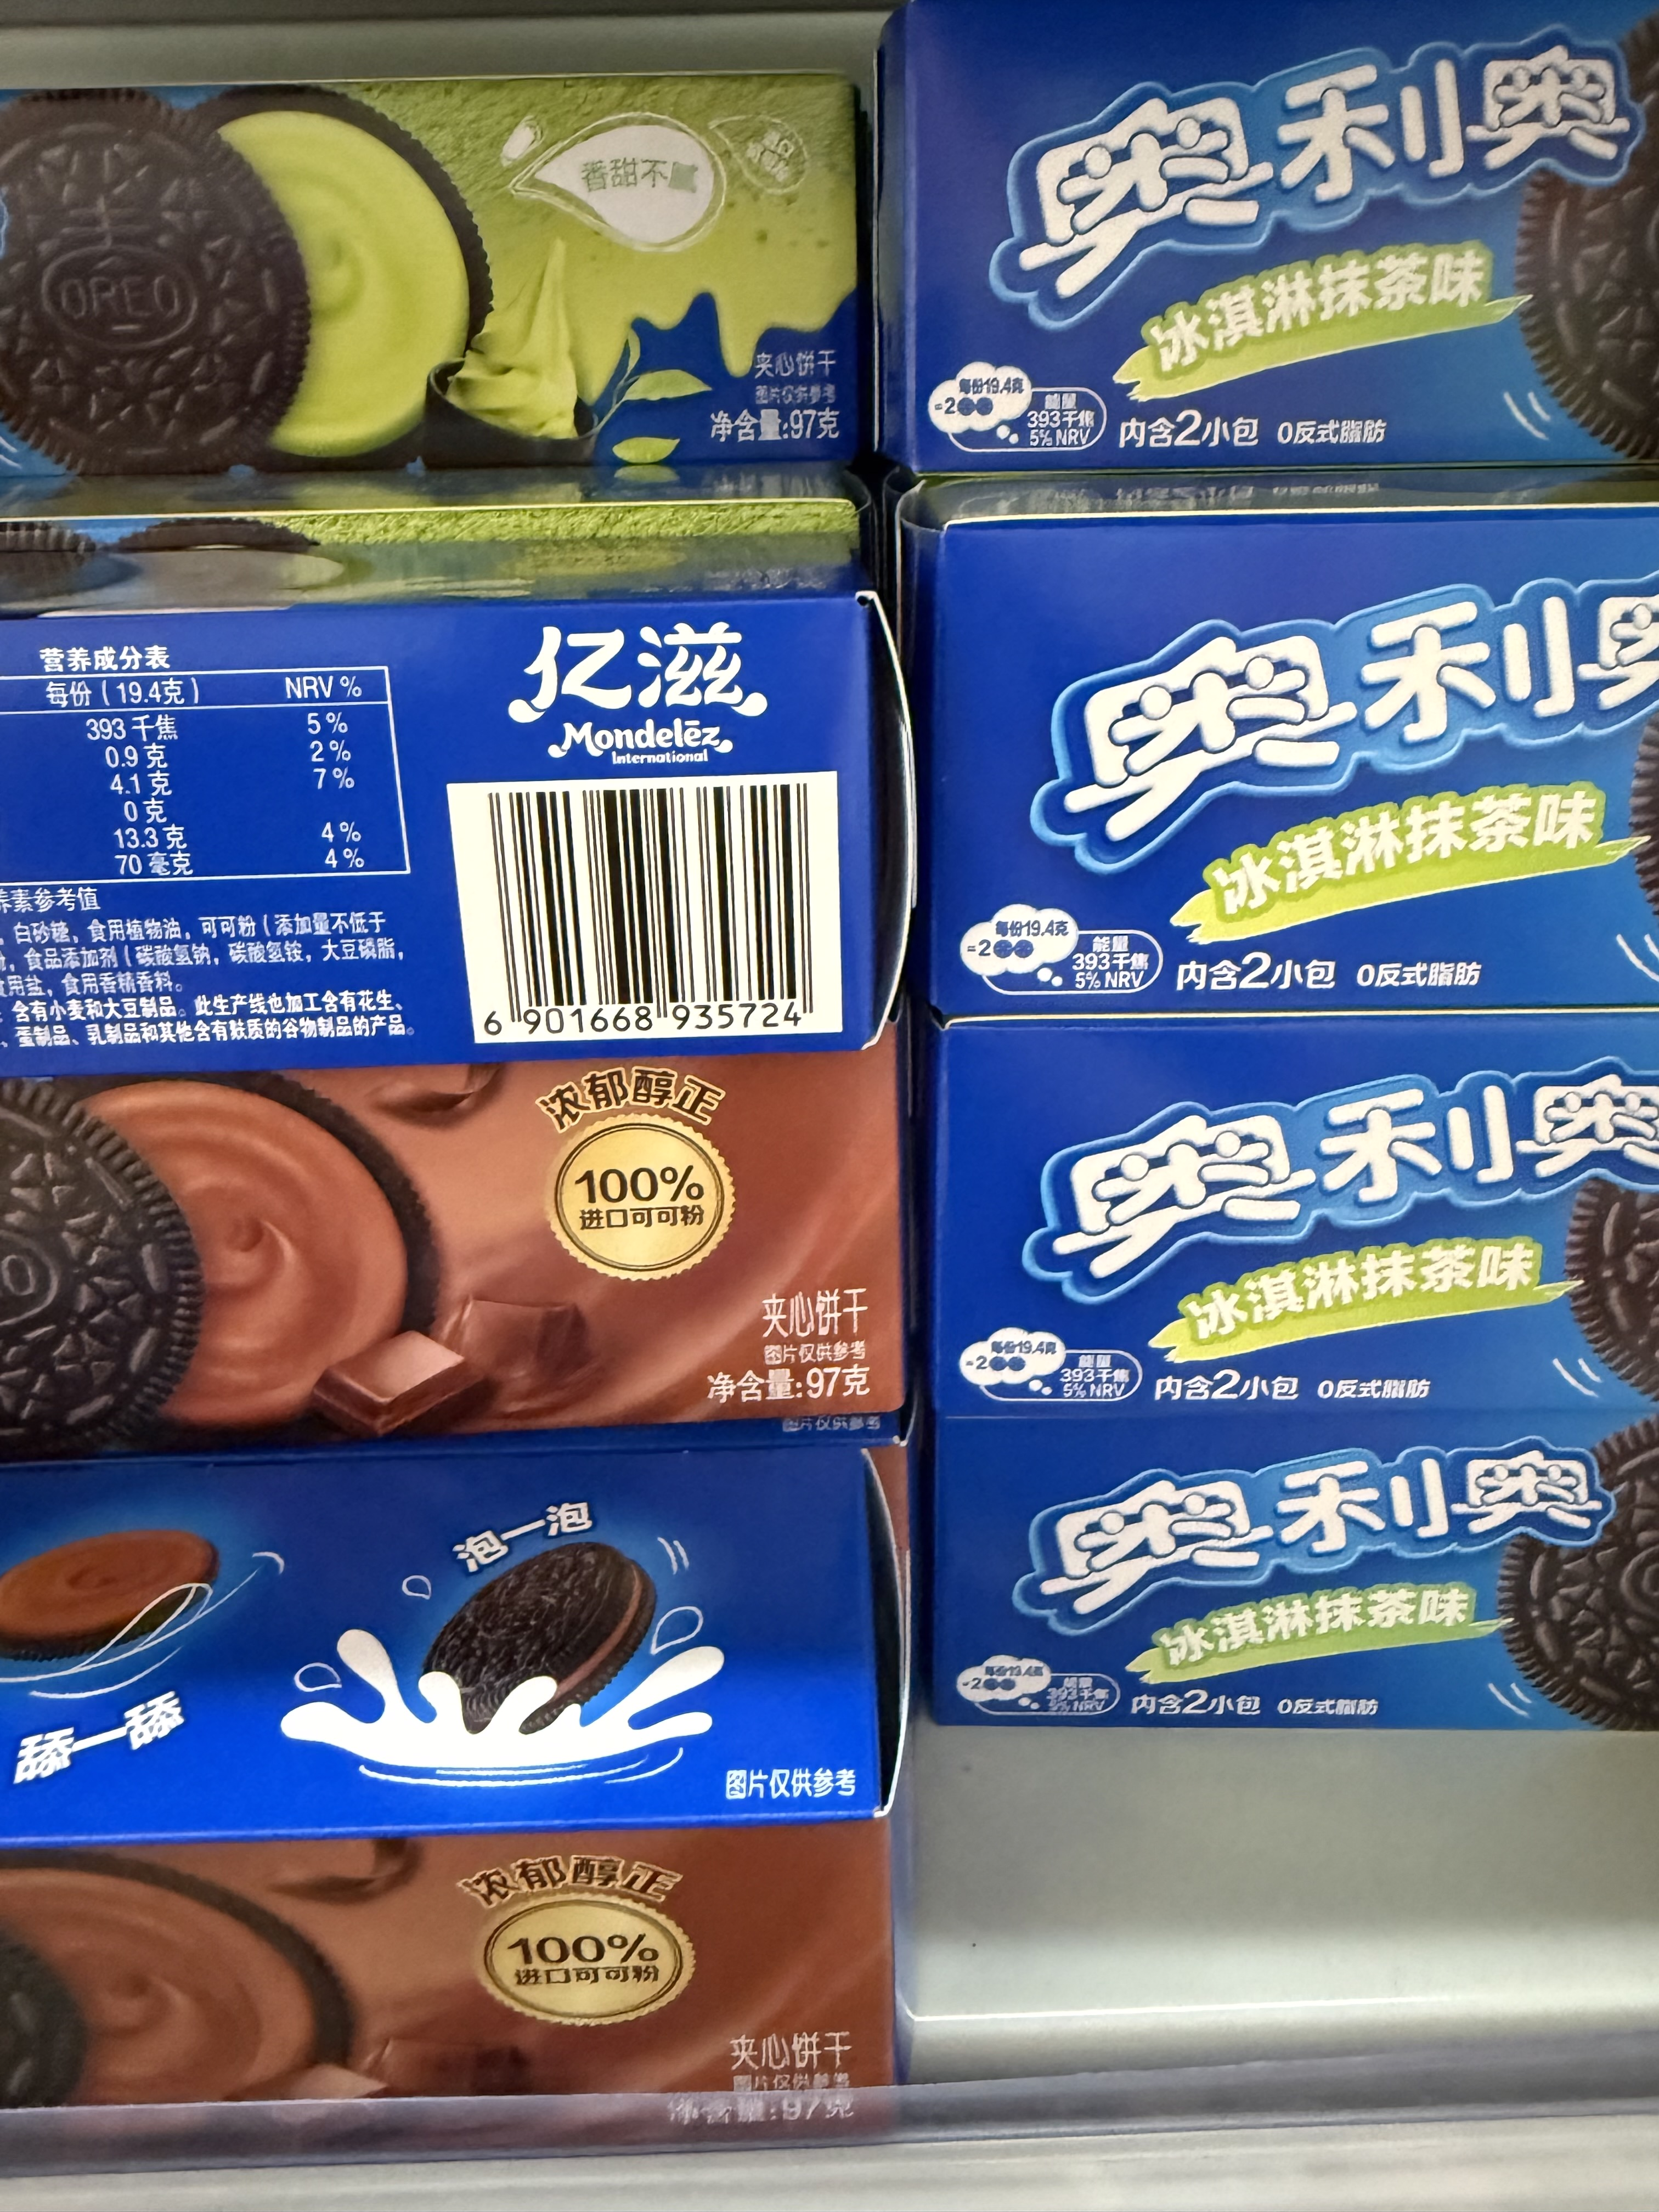bar: (479, 779, 824, 1026)
